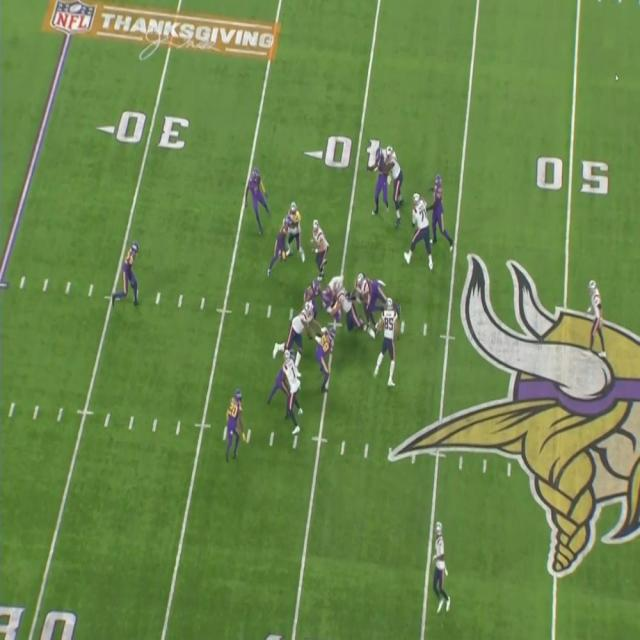db: (270, 204, 296, 272), (225, 388, 244, 454), (250, 166, 268, 234), (123, 238, 142, 300)
qb: (592, 278, 606, 346)
skill: (380, 298, 395, 380), (285, 355, 301, 430), (433, 518, 446, 607)
